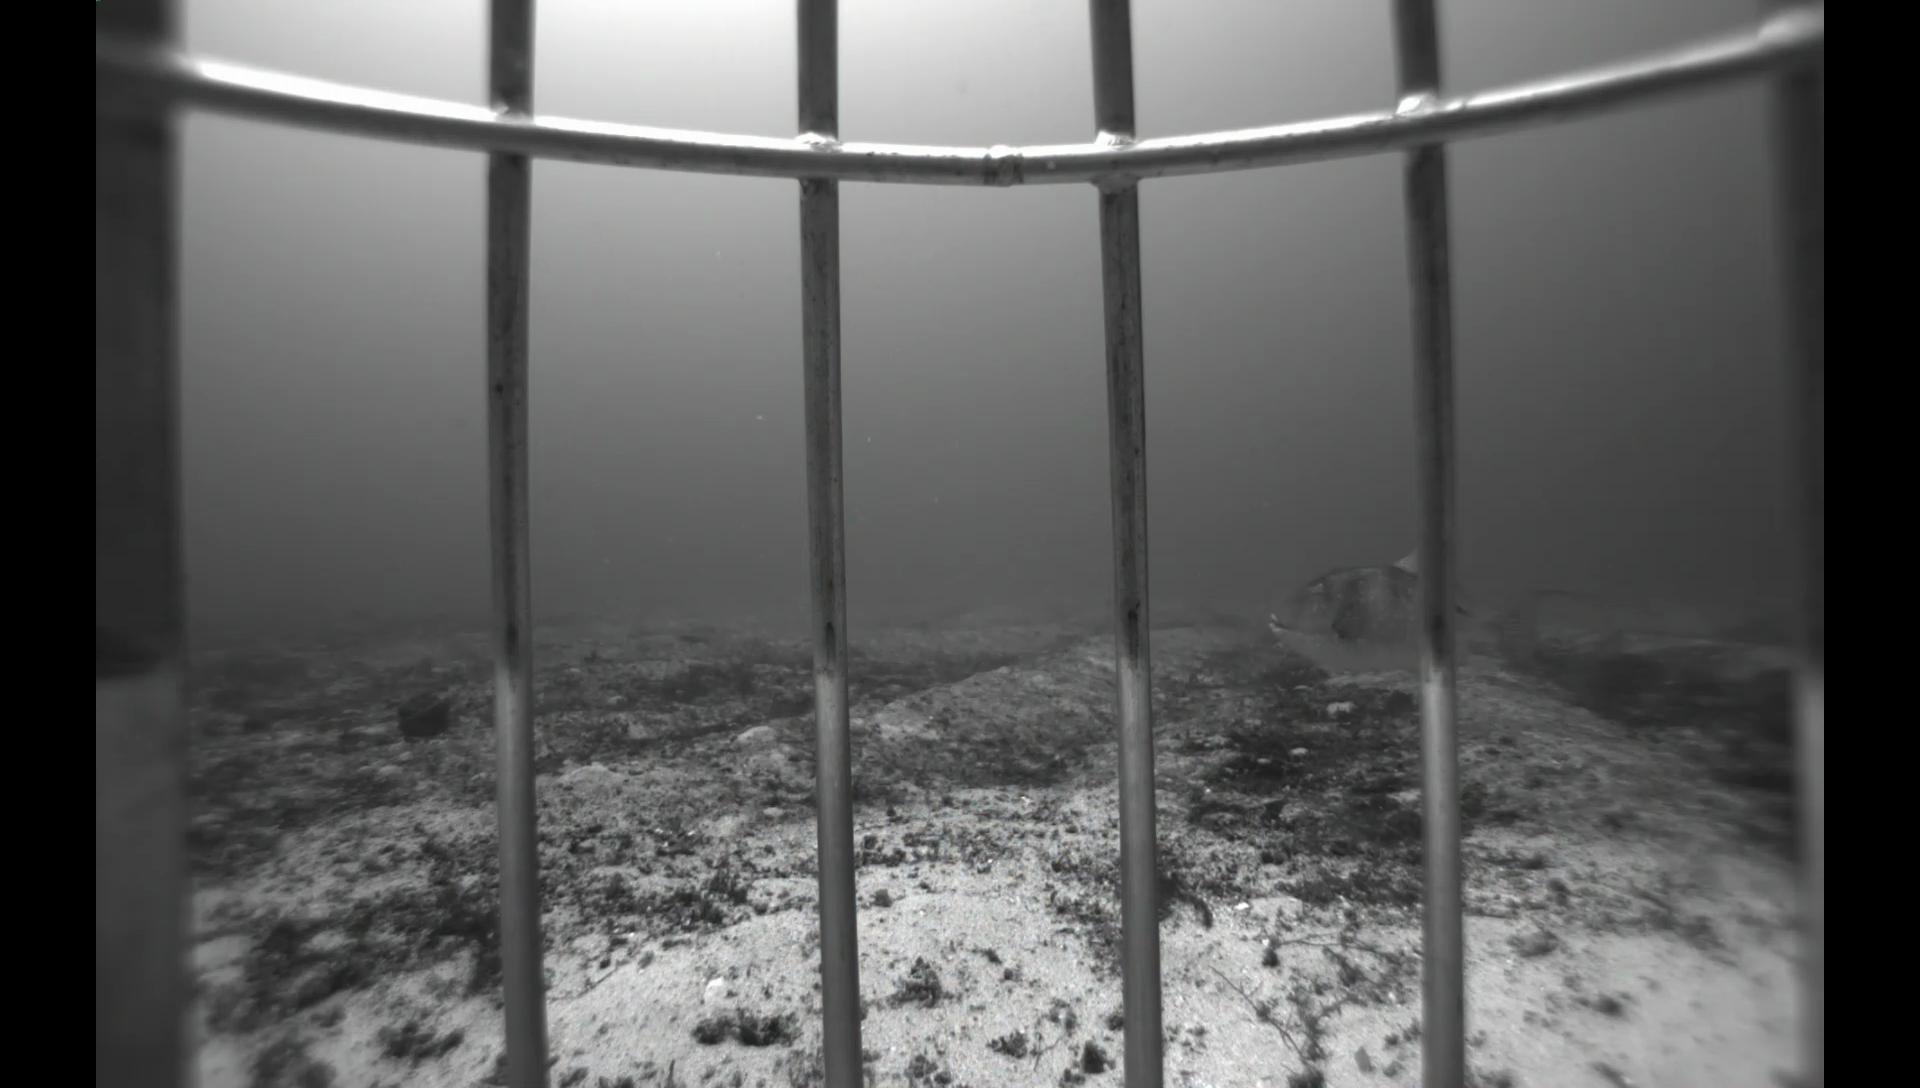BALISTESCAPRISCUS-189030502: (1255, 531, 1627, 702)
CALAMUSPRORIDENS-170210605: (342, 630, 455, 675)
